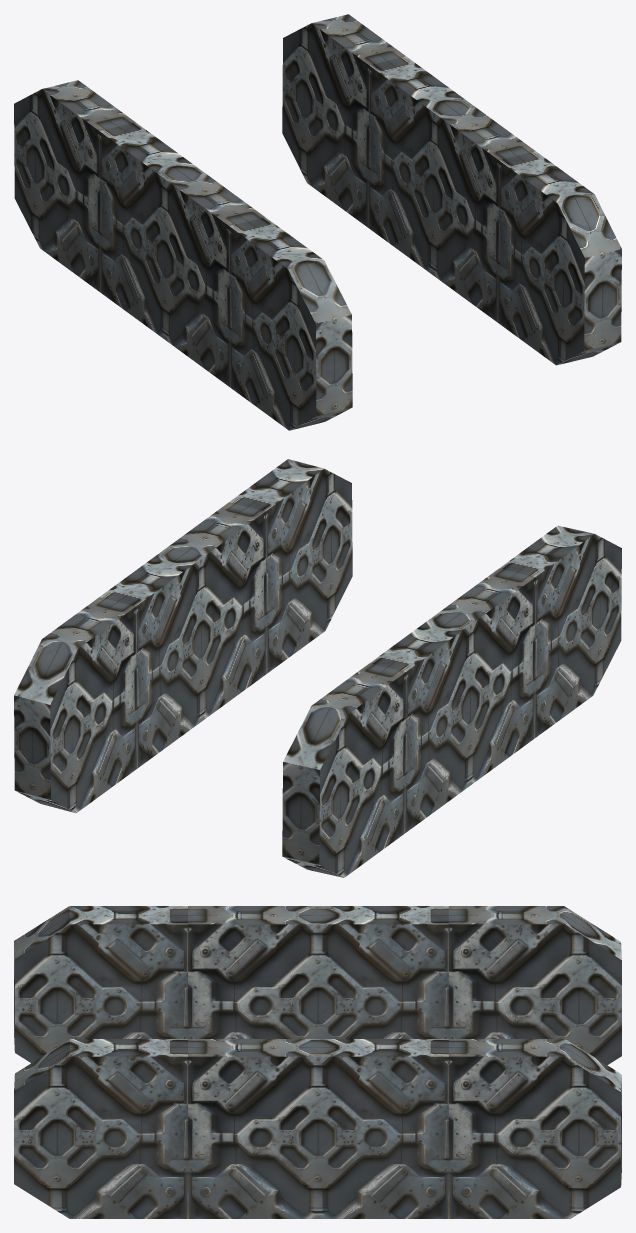
Rendered from sine.obj.
The picture shows the model from 3 angles, top to bottom: view 1: azimuth 30°, elevation 25°; view 2: azimuth 150°, elevation 25°; view 3: azimuth 270°, elevation 25°; orthographic projection.
Visible parts, largest first — view 1: sine; view 2: sine; view 3: sine.
Boxes of the visible parts, x1,y1,x2,y2 form: sine: (14,14,621,430); sine: (14,459,621,877); sine: (14,906,621,1218).
Size of the model in its own units: 1.37 by 0.6907 by 2.33.
1 material, 1 textured.
